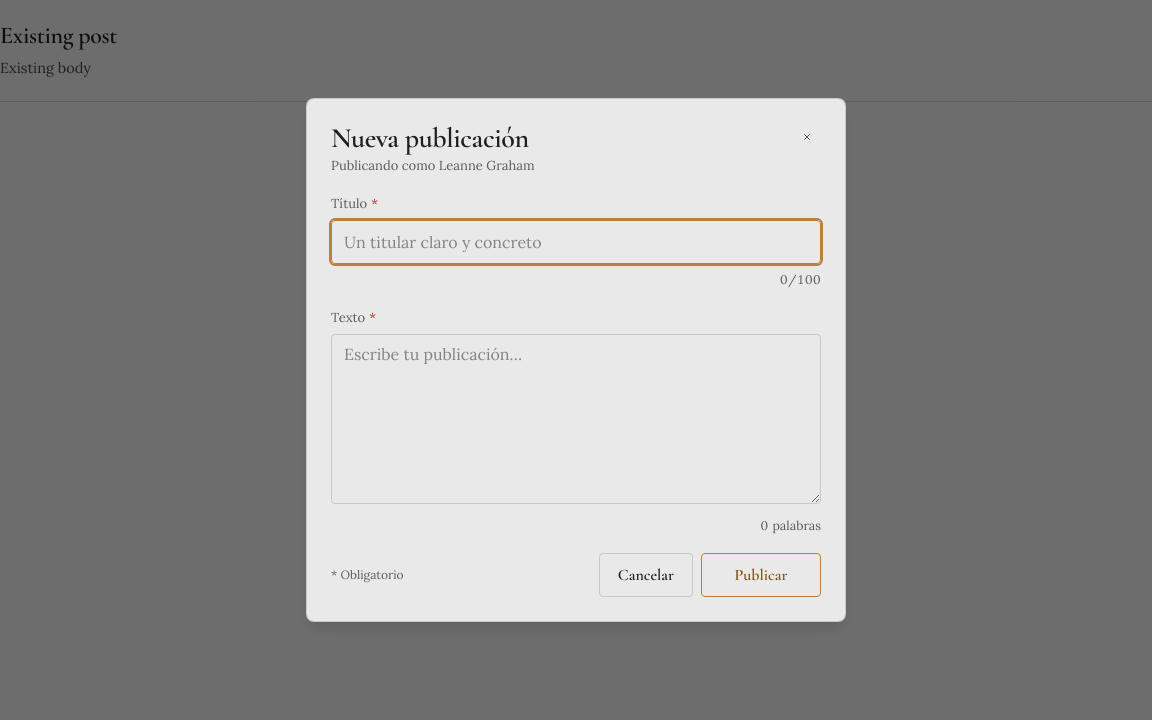
Test: PostForm › shows the title and word counters
The image size is (1152, 720).
Type "Hello" into the field labelled "Título" at (576, 242), box [331,220,821,264]
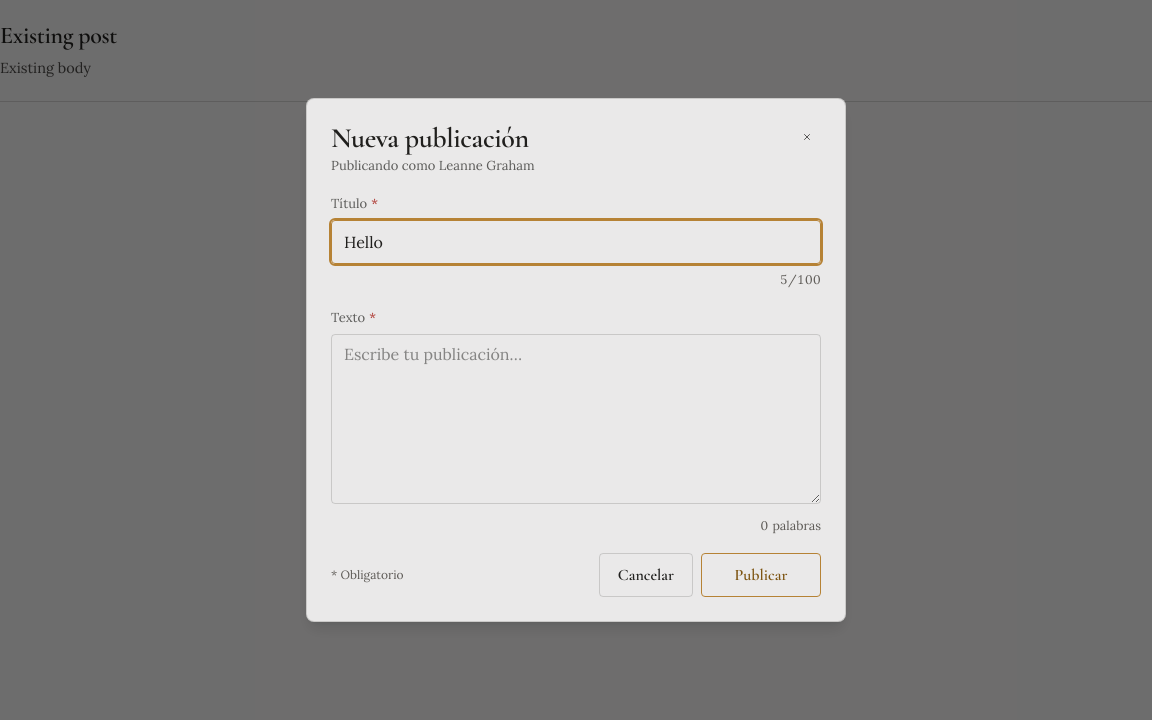
Type "two words" into the text box labelled "Texto" at (576, 419), box [331,334,821,504]
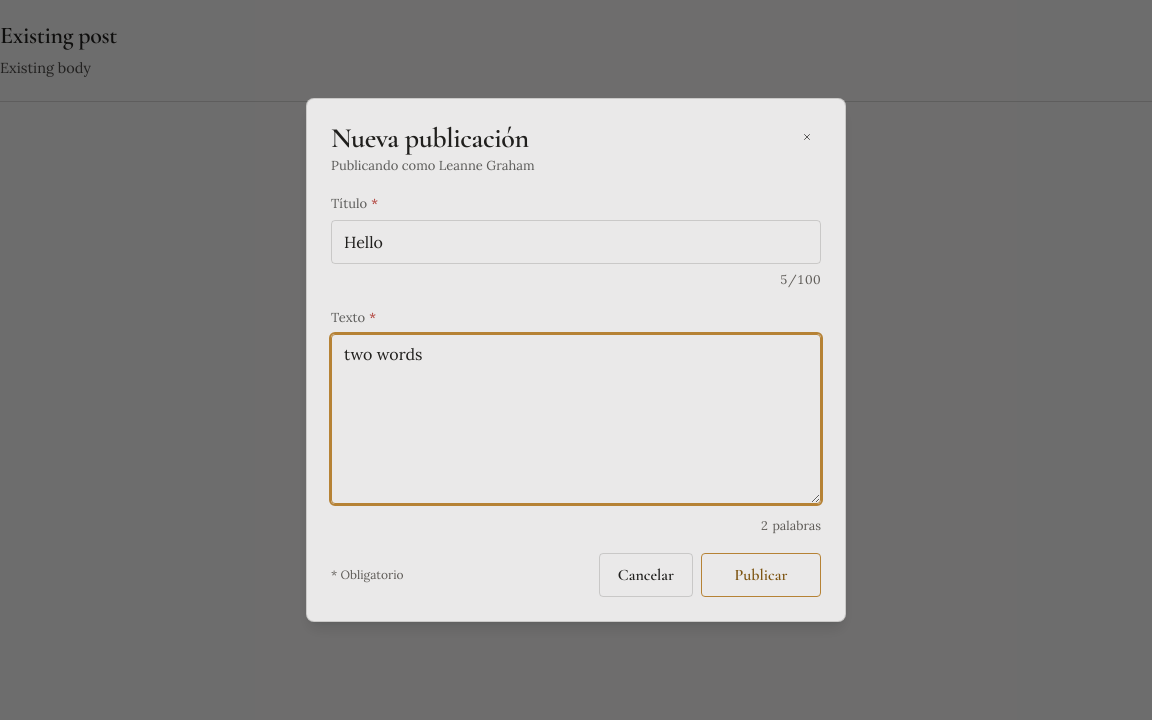
Expected: the text "5/100" is shown, [780,270,821,290]
Expected: the text "2 palabras" is shown, [760,516,821,535]
